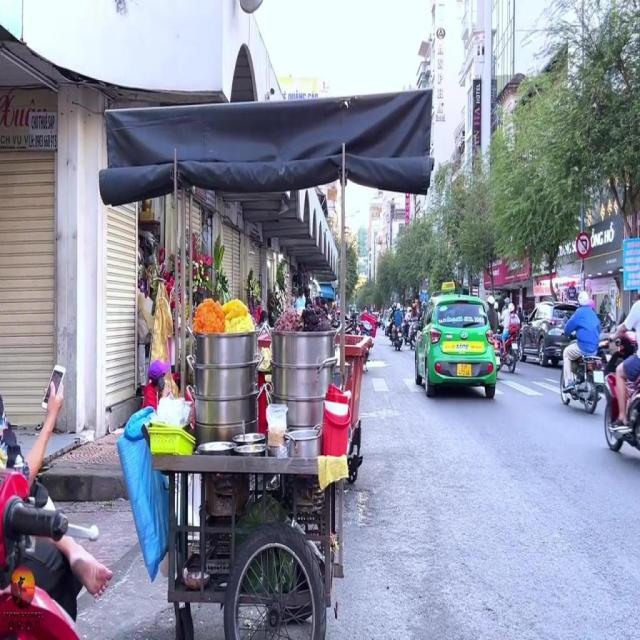cam_o_to_re_trai: (576, 233, 592, 258)
